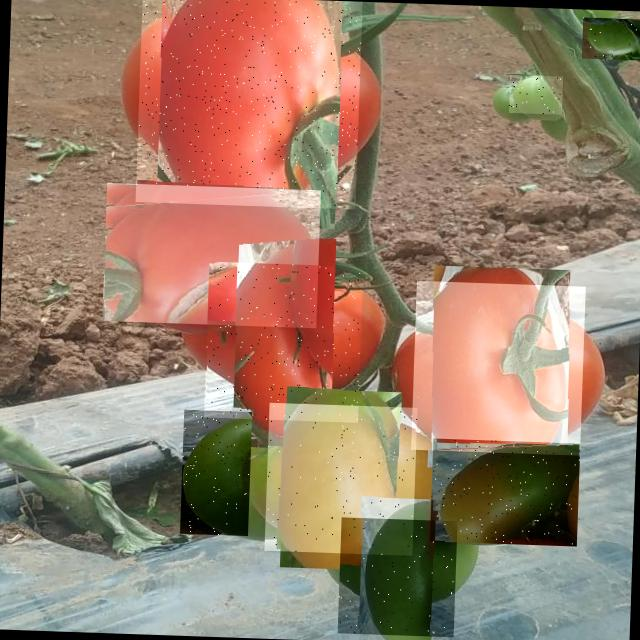Ripe Tomato: (135, 0, 362, 209), (102, 182, 320, 328), (410, 280, 586, 455), (204, 261, 362, 422)
Unripe Tomato: (264, 402, 417, 556), (429, 438, 580, 546), (337, 517, 457, 637), (180, 410, 252, 536), (581, 17, 640, 60), (508, 74, 562, 114)
